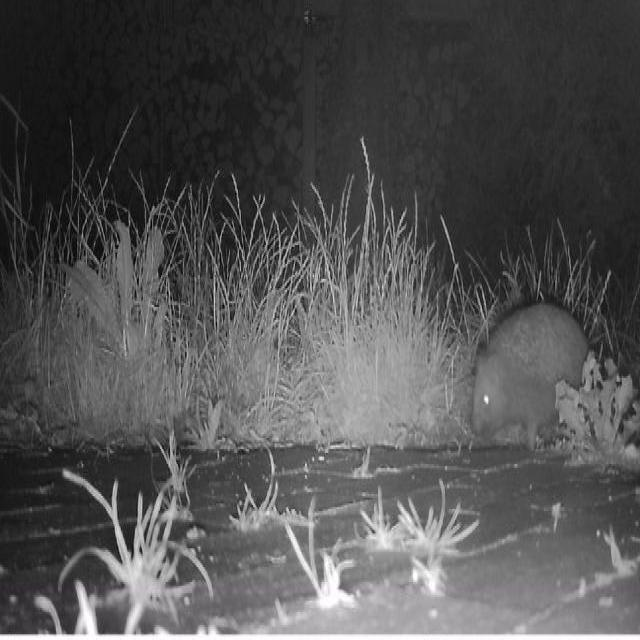Hedgehog: (468, 299, 590, 457)
